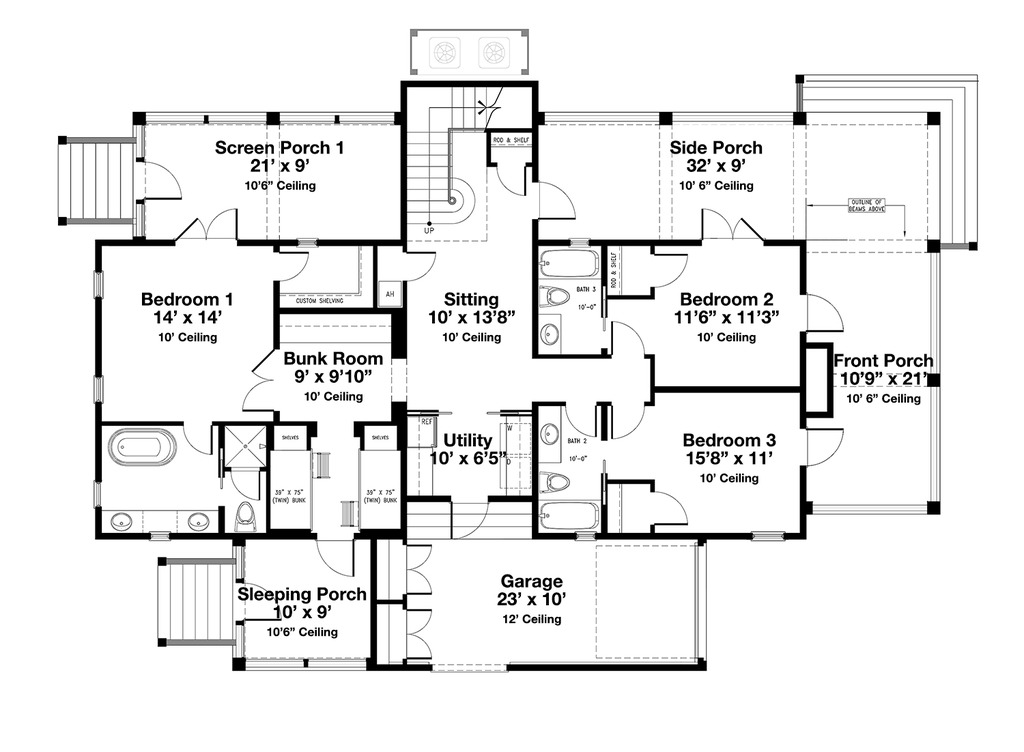door: (241, 348, 280, 419), (697, 205, 766, 243), (177, 207, 241, 242), (531, 181, 580, 224), (139, 160, 185, 205), (800, 426, 846, 470), (402, 539, 435, 598), (650, 488, 696, 529), (806, 289, 847, 332), (405, 605, 434, 661), (608, 401, 650, 439), (320, 532, 358, 574), (649, 251, 693, 287), (561, 401, 599, 439), (271, 249, 313, 282), (608, 320, 643, 359), (178, 422, 215, 458), (226, 466, 266, 498), (496, 159, 529, 195), (405, 248, 436, 284)
large_sink: (534, 468, 574, 496), (535, 280, 570, 311), (233, 497, 258, 532)
small_sink: (537, 405, 562, 463), (97, 508, 143, 537), (532, 312, 560, 355), (172, 509, 216, 534)
stairs: (406, 88, 539, 235), (155, 555, 237, 649), (56, 133, 134, 224)
tub: (108, 424, 181, 470), (531, 498, 600, 532), (535, 245, 602, 280)
windows: (744, 527, 788, 545), (94, 373, 107, 410), (91, 267, 105, 301)
